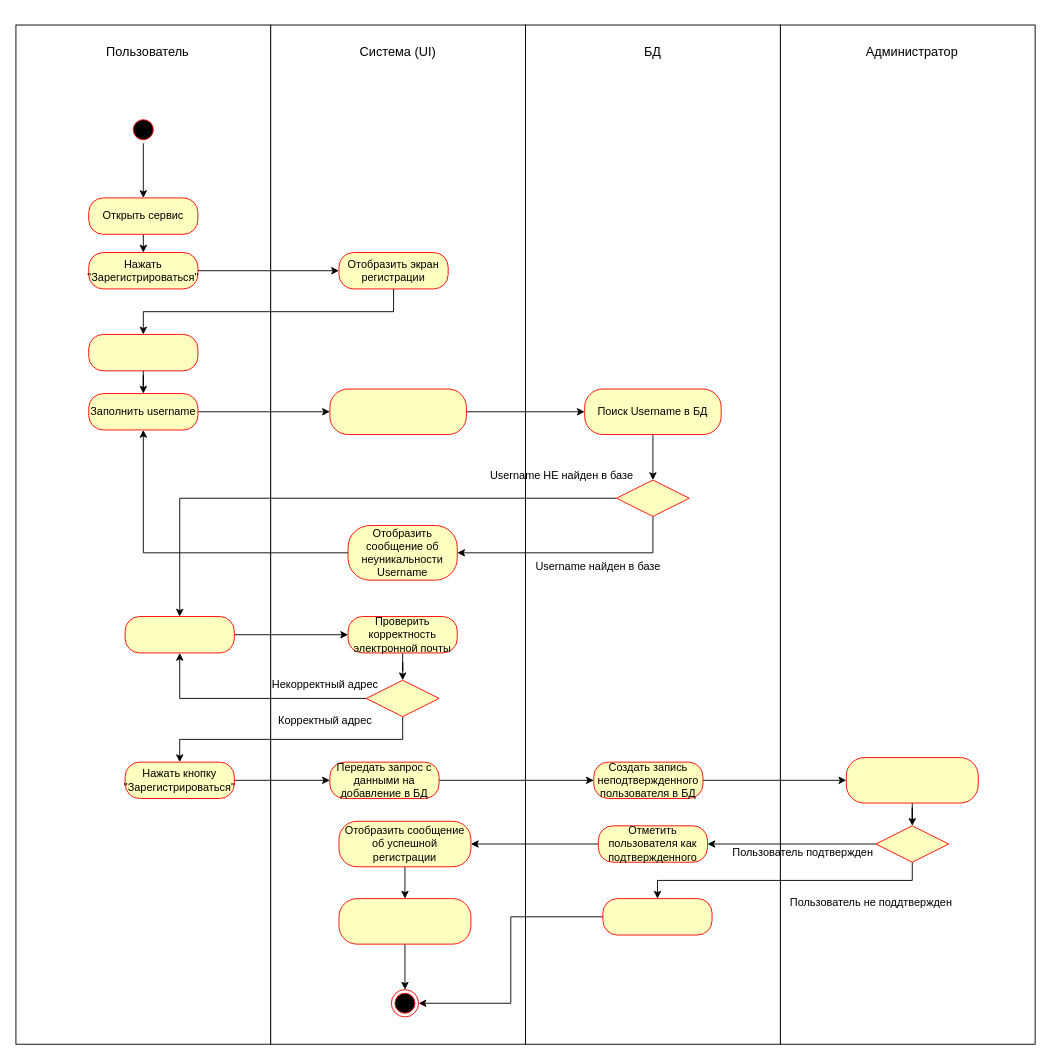
Some shapes in this 1051 by 1060 pixel diagram are drawn without their labels. The shapes that lost their labels are listed below. From the top down, each one's centre as x and y in pixels, then its label:
(143,352): Заполнить личные данные
(397,411): Произвести запрос к БД для проверки уникальности Username
(179,634): Заполнить поле электронной почты
(911,780): Подтвердить регистрацию пользователя
(404,921): Отобразить окно входа в личный кабинет
(657,916): Удалить запись пользователя
